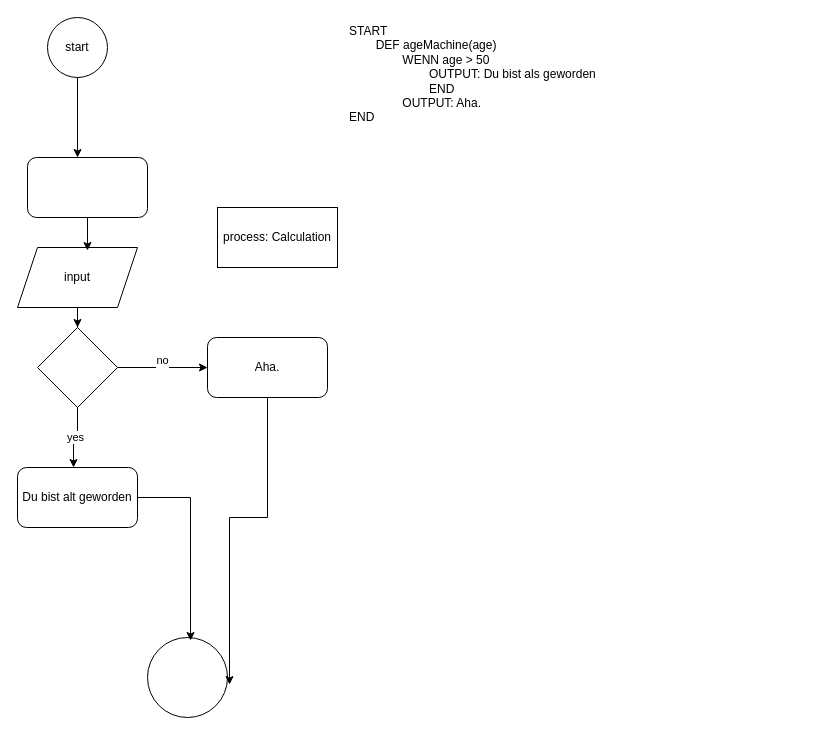
Some shapes in this 825 by 735 pixel diagram are drawn without their labels. The centre of each missing label's shape, as x and y in pixels:
"end" goes at (x=187, y=677).
"over 50" goes at (x=77, y=367).
"print: wie Alt bist DU!?" goes at (x=87, y=187).
